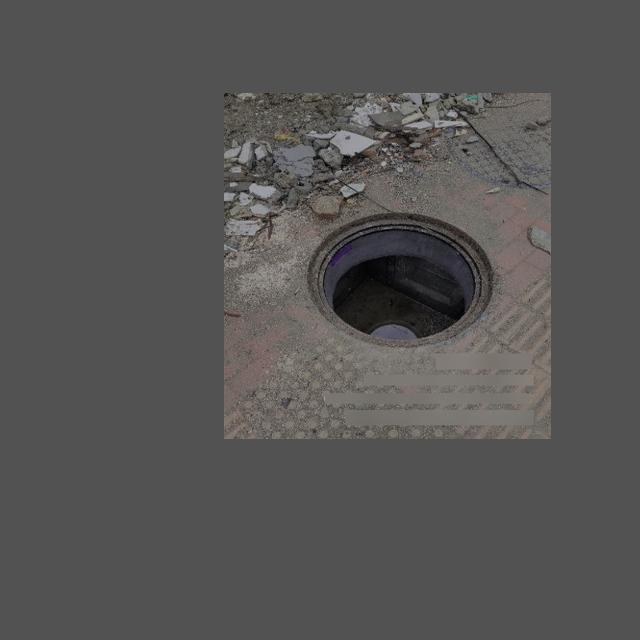lose: (309, 212, 493, 347)
